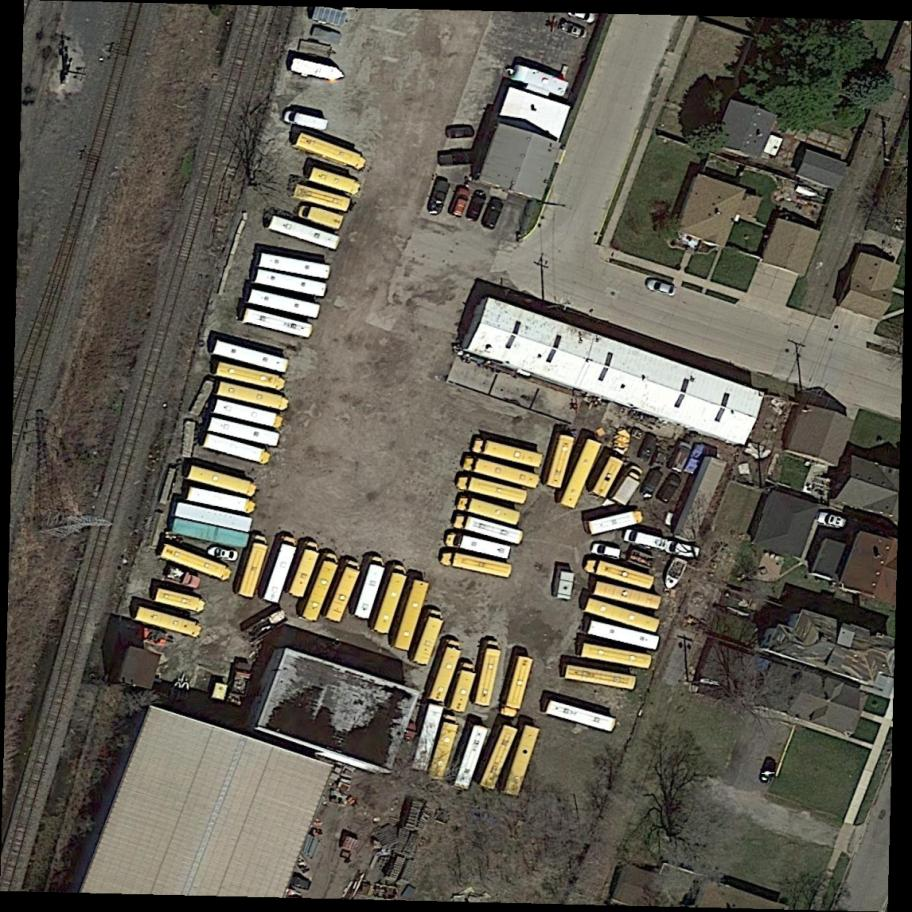large-vehicle: (212, 337, 290, 376), (267, 214, 345, 253), (158, 542, 232, 583), (294, 133, 369, 173), (560, 439, 602, 510), (300, 551, 341, 623), (584, 598, 664, 634), (542, 697, 619, 734), (503, 725, 541, 797), (463, 454, 541, 489), (479, 724, 518, 791), (393, 579, 429, 649), (247, 288, 323, 321), (263, 536, 299, 605), (213, 397, 286, 431), (187, 464, 259, 498), (214, 360, 288, 393), (208, 416, 282, 449), (587, 619, 661, 652), (204, 433, 273, 468), (411, 703, 446, 772), (241, 307, 316, 339), (253, 267, 327, 299), (373, 564, 407, 633), (454, 725, 489, 792), (427, 713, 461, 781), (217, 381, 291, 412), (171, 520, 250, 549), (134, 606, 202, 639), (428, 639, 463, 703), (457, 474, 529, 505), (472, 436, 544, 467), (439, 550, 513, 580), (500, 655, 534, 720), (455, 514, 524, 546), (445, 530, 513, 562), (326, 561, 361, 623), (593, 581, 663, 612), (291, 181, 353, 216), (174, 504, 253, 531), (237, 535, 270, 598), (585, 558, 654, 588), (562, 665, 638, 692), (578, 642, 653, 669), (259, 253, 331, 281), (591, 445, 628, 498), (355, 556, 385, 621), (289, 541, 322, 599), (460, 496, 523, 526), (412, 608, 444, 667), (474, 640, 502, 707), (188, 488, 256, 513), (308, 167, 361, 198), (548, 432, 576, 490), (610, 464, 646, 508), (449, 663, 478, 715), (587, 511, 644, 536), (154, 587, 205, 613), (297, 204, 345, 229)
ship: (287, 55, 351, 86), (660, 556, 690, 593)
small-vehicle: (283, 108, 330, 133), (548, 563, 578, 602), (424, 177, 453, 217), (622, 526, 668, 551), (160, 567, 203, 591), (481, 198, 508, 233), (446, 184, 473, 219), (654, 472, 683, 504), (667, 439, 694, 473), (463, 189, 489, 224), (563, 1, 598, 26), (665, 538, 703, 560), (633, 432, 659, 464), (588, 540, 625, 562), (814, 509, 849, 532), (644, 277, 680, 298), (640, 467, 664, 498), (756, 754, 778, 787), (438, 151, 477, 169), (557, 19, 590, 40), (204, 544, 240, 563), (444, 125, 476, 142)
